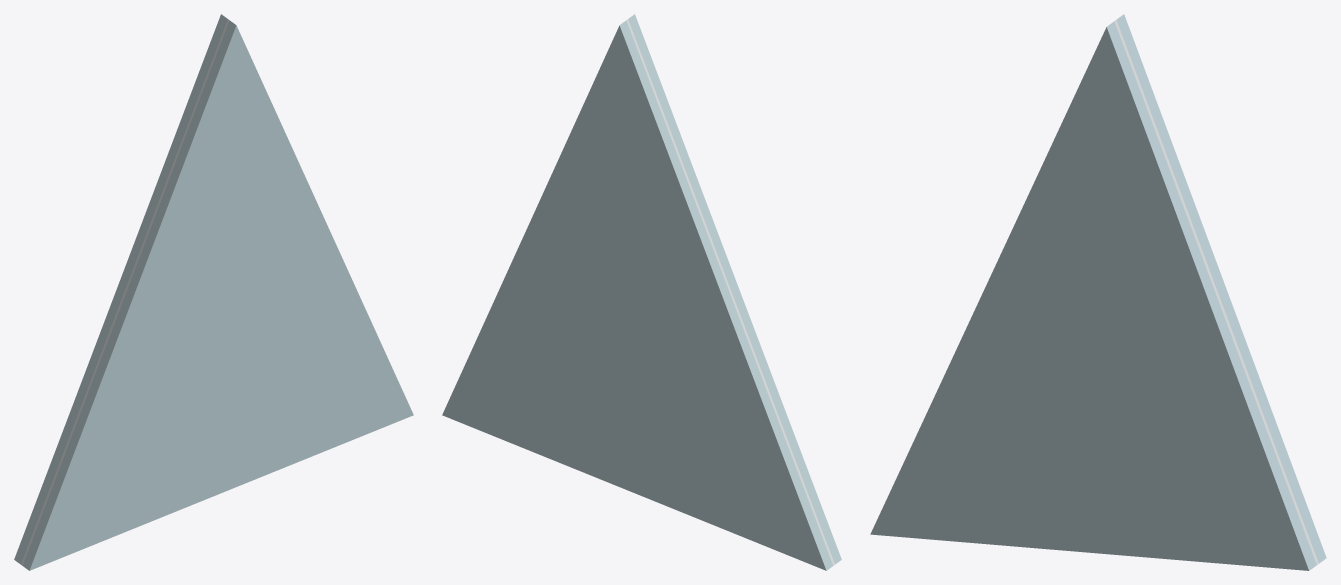
File: SM_Int_Shard_A.fbx
3 views of the same model, side by side, from view 1: azimuth 30°, elevation 25°; view 2: azimuth 150°, elevation 25°; view 3: azimuth 330°, elevation 25° (orthographic). The views are drawn at different scales.
Visible parts, largest first — view 1: SM_Int_Shard_A; view 2: SM_Int_Shard_A; view 3: SM_Int_Shard_A.
Boxes of the visible parts, x1=… form: SM_Int_Shard_A: x1=14, y1=14, x2=413, y2=570; SM_Int_Shard_A: x1=442, y1=14, x2=841, y2=570; SM_Int_Shard_A: x1=870, y1=14, x2=1326, y2=570.
Size of the model in its own units: 0.009 by 0.13 by 0.16.
